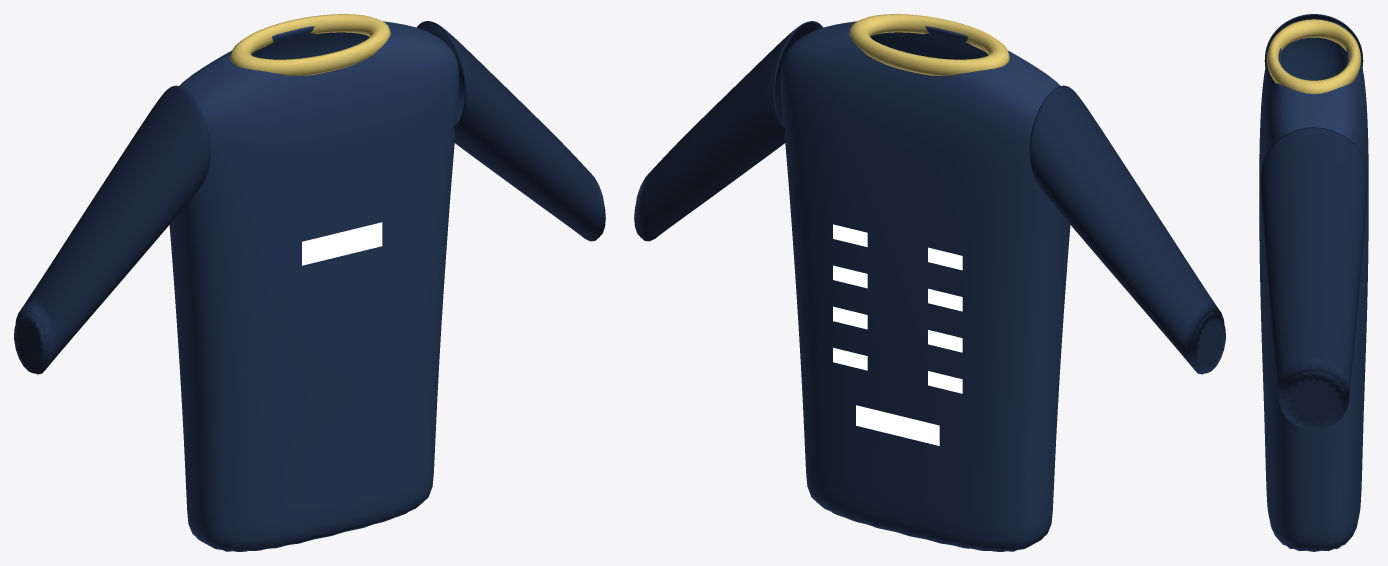
Rendered from jersey.glb.
3 renders of one model, left to right at view 1: azimuth 30°, elevation 25°; view 2: azimuth 150°, elevation 25°; view 3: azimuth 270°, elevation 25°, orthographic. The views are drawn at different scales.
Parts seen in each view (by area): view 1: Torso, Sleeve.001, Sleeve, Collar, slot-1; view 2: Torso, Sleeve.001, Sleeve, Collar, slot-2; view 3: Sleeve, Torso, Collar, Sleeve.001.
Boxes of the visible parts, bbox=[...] form: Torso: bbox=[169, 21, 459, 551]; Sleeve.001: bbox=[14, 85, 210, 374]; Sleeve: bbox=[416, 21, 605, 241]; Collar: bbox=[230, 14, 390, 75]; slot-1: bbox=[302, 222, 382, 265]; Torso: bbox=[780, 21, 1070, 551]; Sleeve.001: bbox=[1029, 85, 1225, 374]; Sleeve: bbox=[634, 21, 823, 241]; Collar: bbox=[849, 14, 1009, 75]; slot-2: bbox=[856, 405, 939, 445]; Sleeve: bbox=[1260, 127, 1367, 430]; Torso: bbox=[1259, 21, 1368, 551]; Collar: bbox=[1266, 19, 1361, 93]; Sleeve.001: bbox=[1264, 14, 1363, 66].
Size of the model in its own units: 3.42 by 2.85 by 0.67.
